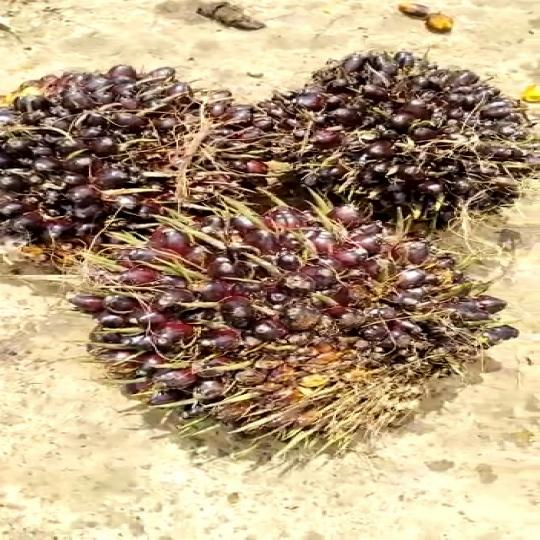mentah: (74, 205, 495, 448), (234, 43, 540, 213), (1, 56, 211, 269)
